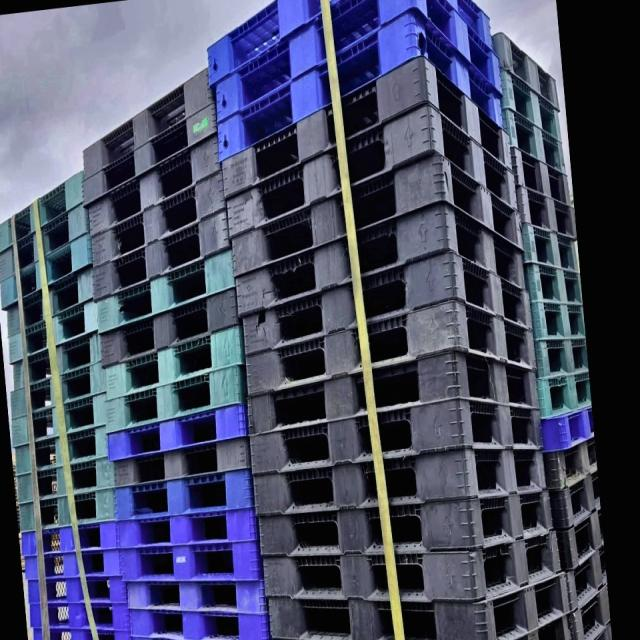non-igps: (214, 4, 508, 168), (220, 53, 515, 204), (223, 96, 522, 244), (227, 149, 527, 283), (229, 194, 528, 322), (237, 247, 536, 363), (240, 291, 542, 405), (241, 338, 547, 446), (243, 390, 549, 486), (257, 522, 569, 610), (247, 440, 551, 528), (252, 482, 560, 568), (212, 0, 416, 128), (261, 564, 578, 640), (204, 0, 415, 97), (79, 95, 222, 214), (80, 60, 218, 183), (86, 125, 225, 243), (93, 235, 242, 339), (90, 202, 234, 306), (87, 168, 230, 272), (98, 279, 246, 372), (101, 316, 249, 406), (101, 358, 252, 440), (104, 398, 253, 467), (110, 462, 260, 526), (109, 431, 254, 494), (0, 225, 95, 314), (0, 195, 91, 286), (0, 163, 87, 258), (114, 501, 264, 554), (116, 536, 267, 588), (5, 259, 100, 341), (7, 291, 102, 367), (8, 386, 112, 455), (10, 416, 117, 483), (9, 354, 110, 424), (11, 450, 122, 510), (13, 479, 122, 540), (11, 325, 106, 394), (488, 27, 562, 115), (125, 575, 271, 619), (124, 603, 275, 640), (497, 64, 565, 146), (18, 513, 127, 563), (500, 104, 569, 179), (21, 540, 127, 586), (26, 597, 134, 638), (507, 143, 573, 209), (552, 500, 609, 574), (512, 182, 580, 244), (564, 535, 614, 617), (25, 570, 132, 608), (518, 217, 584, 278), (539, 431, 602, 494), (547, 466, 605, 532), (519, 258, 586, 310), (534, 368, 596, 422), (564, 576, 615, 640), (538, 403, 597, 458), (527, 297, 591, 345), (532, 334, 592, 384), (30, 618, 136, 640), (590, 618, 616, 640)
